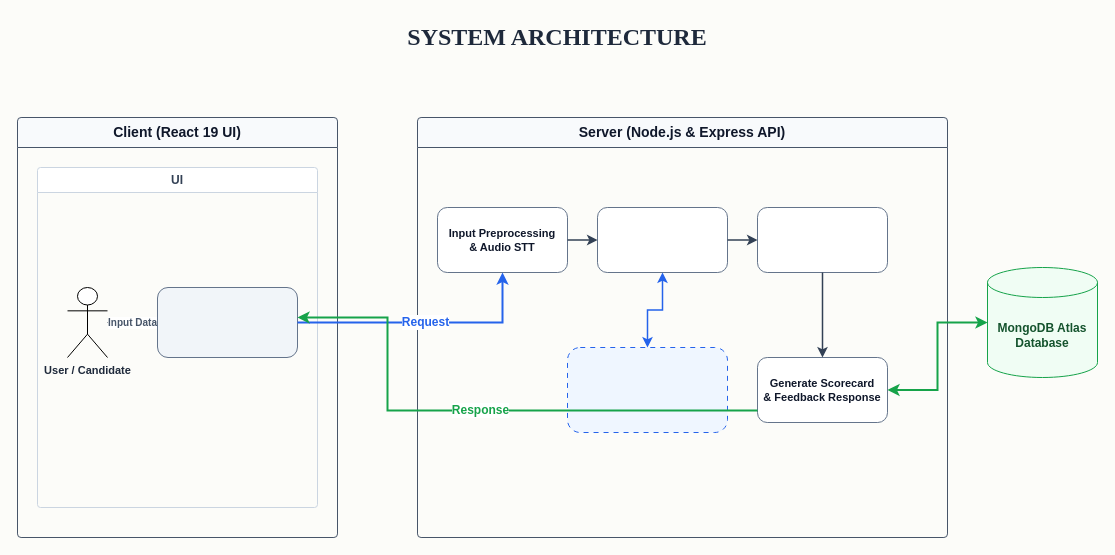
The diagram is 1115 pixels wide and 555 high, and some of its shapes have lost their labels. Here are the shapes that lost their labels. From the top down, the centre of each, then its label:
At pixel 662 239: "Evaluation & Execution Engine".
At pixel 822 239: "Placement Readiness Score Engine".
At pixel 227 322: "User Inputs (Voice / Code / PDF)".
At pixel 647 389: "External Services (Google Gemini AI API & Judge0 CE Sandbox)".
